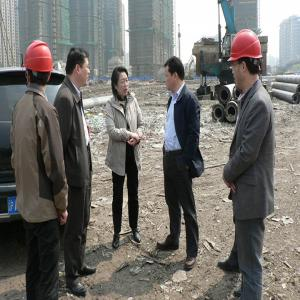none: (65, 48, 92, 89), (163, 56, 185, 93), (111, 66, 132, 99)
red: (230, 28, 264, 89), (23, 37, 55, 93)
